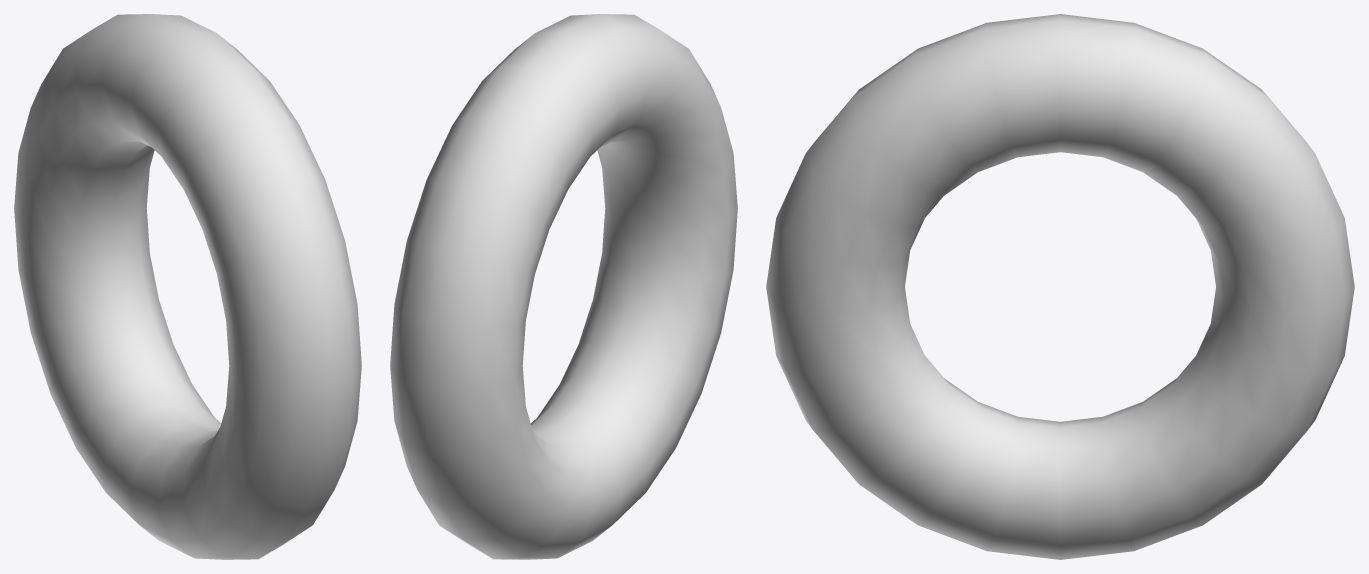
3 views of the same model, side by side, from view 1: azimuth 30°, elevation 25°; view 2: azimuth 150°, elevation 25°; view 3: azimuth 270°, elevation 25° (orthographic). The views are drawn at different scales.
Parts seen in each view (by area): view 1: Torus.016; view 2: Torus.016; view 3: Torus.016.
Part boxes in pixels (<box>): Torus.016: <box>14,14,361,559</box>; Torus.016: <box>390,14,737,559</box>; Torus.016: <box>766,14,1354,559</box>.
Size of the model in its own units: 0.0227 by 0.0961 by 0.0961.
Materials: 1 (1 with a texture image).
